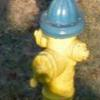Hydrant: (23, 2, 93, 100)
